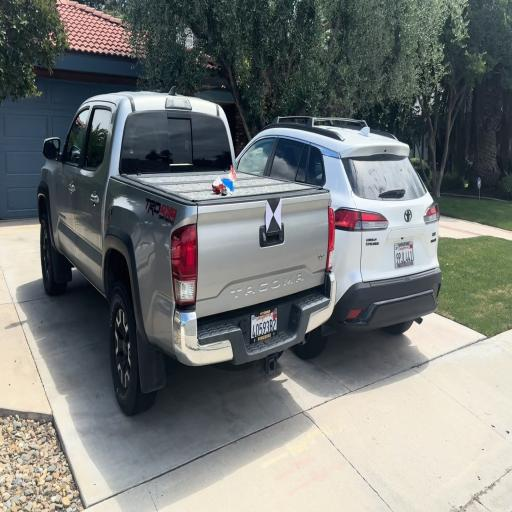target: (266, 199, 282, 232)
